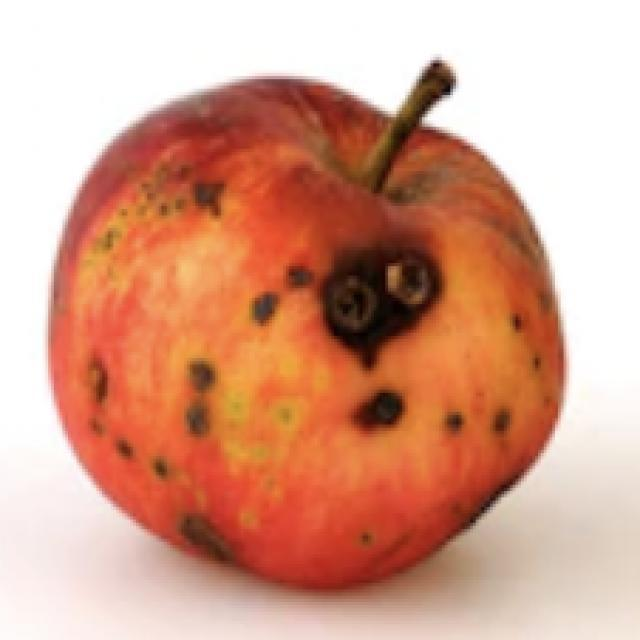Rotten: (49, 71, 572, 587)
